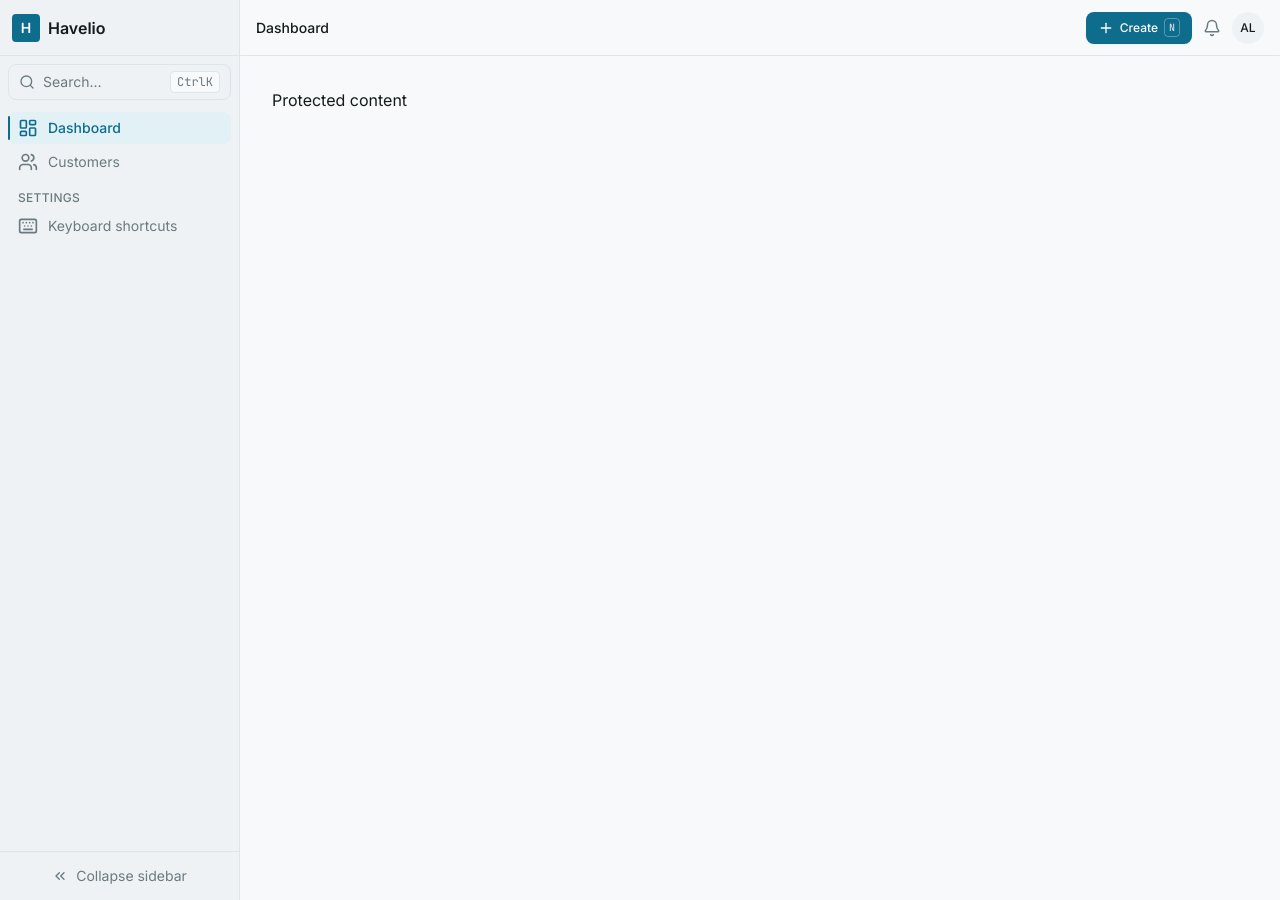
AppLayout › renders the authenticated shell and children when the session is valid
Expected: the text "Protected content" is shown, top-left (272, 90), bottom-right (407, 110)
Click the button with aria-label "account menu" at (1248, 28), box top-left (1232, 12), bottom-right (1264, 44)
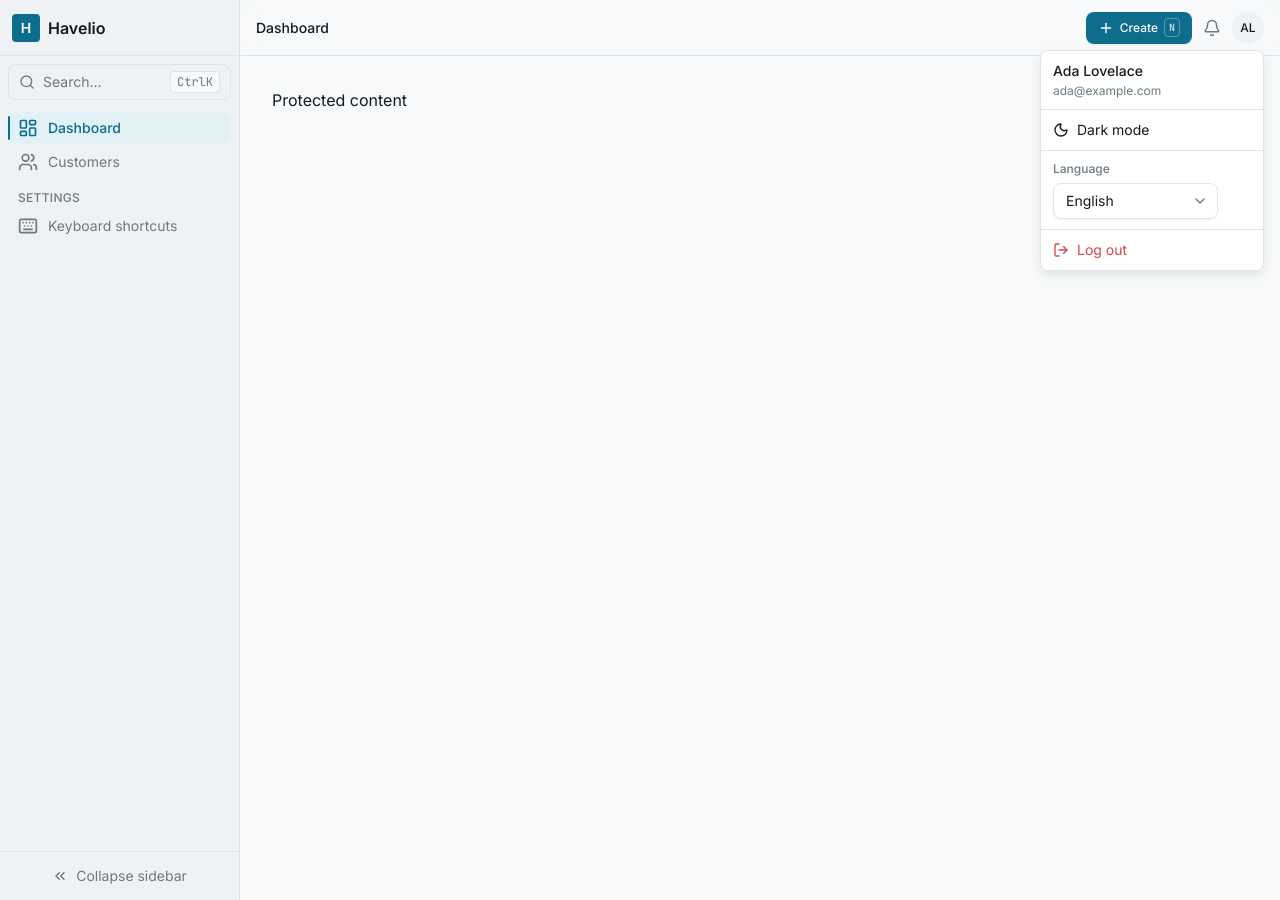
Now the text "Ada Lovelace" is shown, box top-left (1053, 62), bottom-right (1143, 79)
Now the menu item "Log out" is shown, box top-left (1053, 241), bottom-right (1127, 258)
